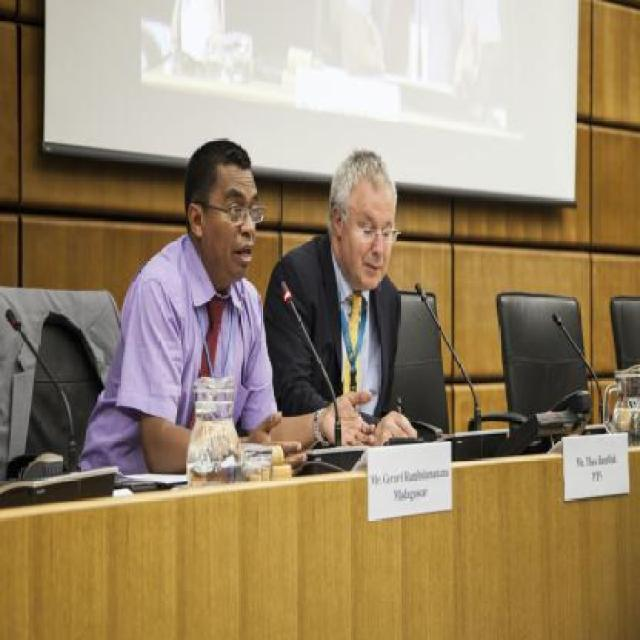Person: (79, 139, 376, 490), (260, 146, 418, 443)
